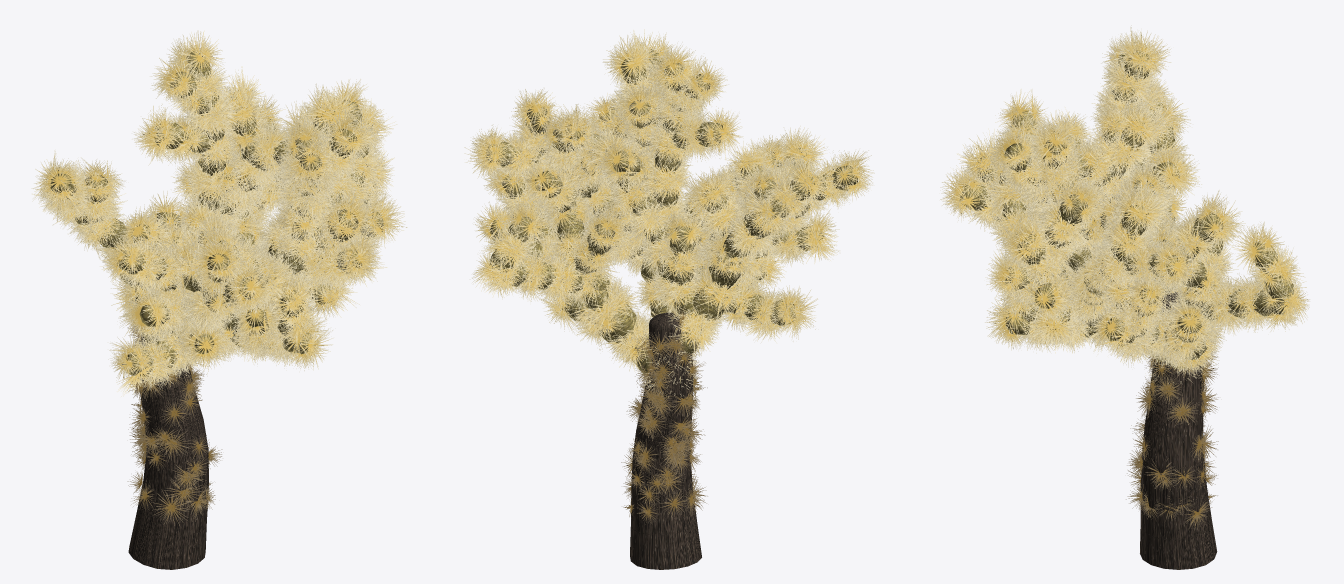
Rendered from cholla_v2.glb.
3 renders of one model, left to right at view 1: azimuth 30°, elevation 25°; view 2: azimuth 150°, elevation 25°; view 3: azimuth 270°, elevation 25°, orthographic. The views are drawn at different scales.
Visible parts, largest first — view 1: ChollaCactus; view 2: ChollaCactus; view 3: ChollaCactus.
Part boxes in pixels (x1,y1,x2,y2): ChollaCactus: [31, 30, 407, 569]; ChollaCactus: [464, 29, 874, 569]; ChollaCactus: [940, 25, 1309, 569].
Bounding box in the file's own units: 1.22 × 1.6 × 1.11.
3 materials, 3 textured.
